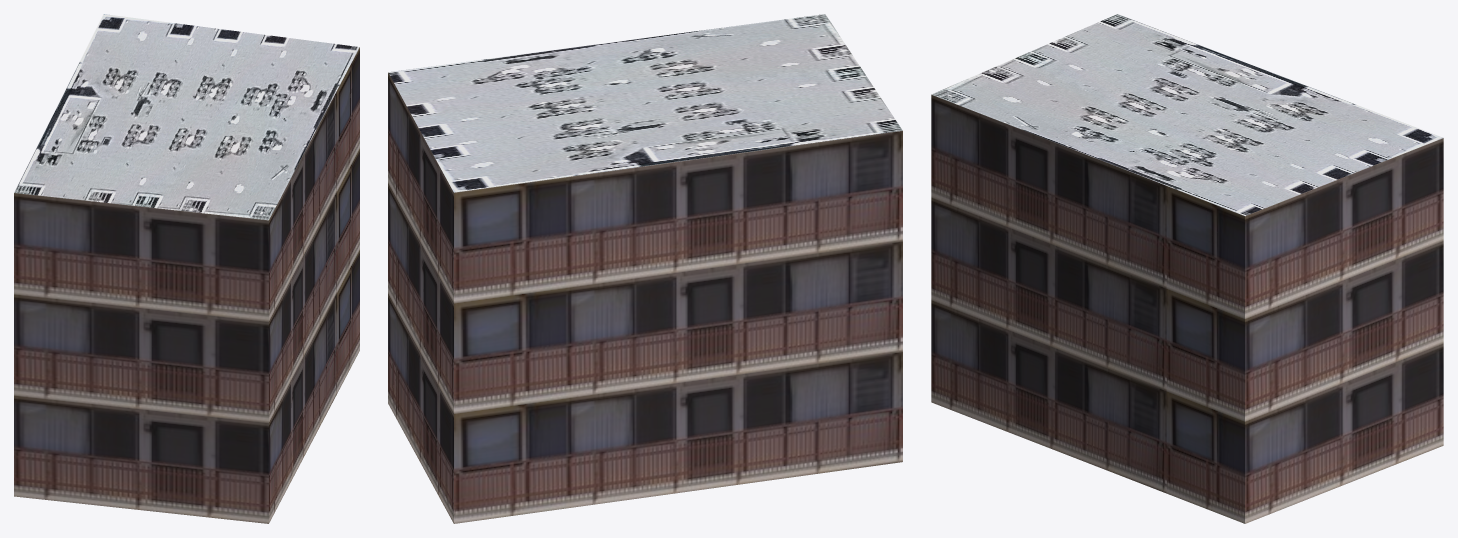
The model's file is ResTex__465.fbx.
3 renders of one model, left to right at view 1: azimuth 30°, elevation 25°; view 2: azimuth 150°, elevation 25°; view 3: azimuth 270°, elevation 25°, orthographic. The views are drawn at different scales.
Visible parts, largest first — view 1: CityEngineMaterial_6_m, CityEngineMaterial_m; view 2: CityEngineMaterial_6_m, CityEngineMaterial_m; view 3: CityEngineMaterial_6_m, CityEngineMaterial_m.
Boxes of the visible parts, <box> form: CityEngineMaterial_6_m: <box>14,47,359,523</box>; CityEngineMaterial_m: <box>14,14,359,220</box>; CityEngineMaterial_6_m: <box>388,72,902,523</box>; CityEngineMaterial_m: <box>388,14,902,192</box>; CityEngineMaterial_6_m: <box>931,94,1443,523</box>; CityEngineMaterial_m: <box>931,14,1443,215</box>.
Size of the model in its own units: 12.68 by 9 by 13.58.
2 materials, 2 textured.
